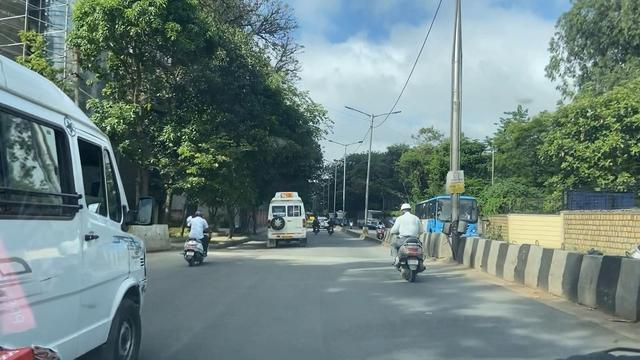HMV: (0, 53, 147, 360), (275, 187, 304, 252)
LMV: (383, 203, 426, 287), (179, 214, 212, 273)
